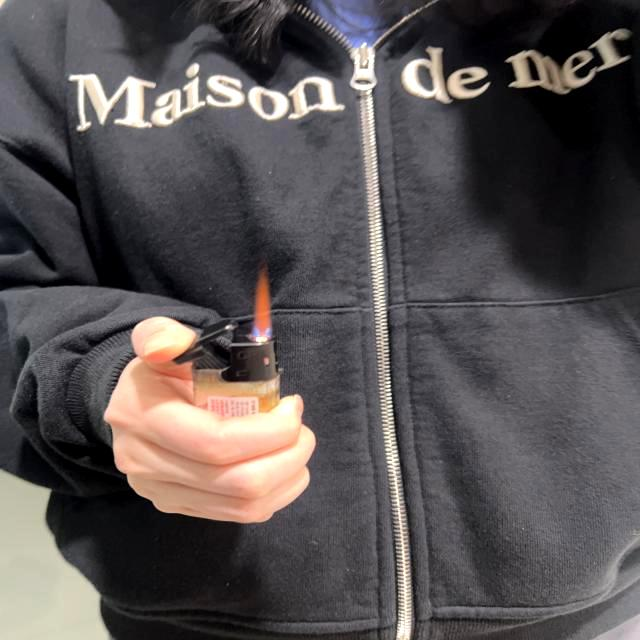fire: (249, 272, 275, 336)
